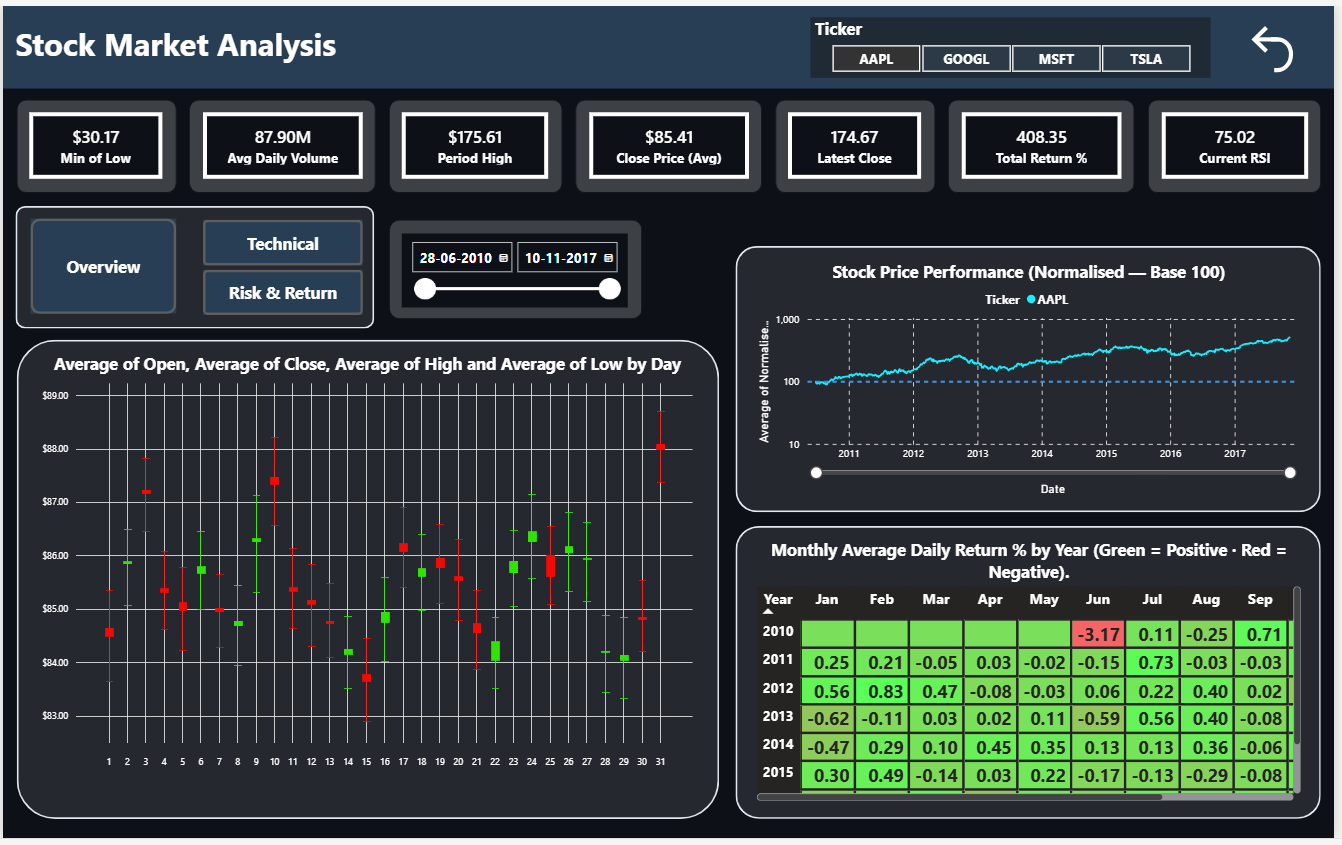

The dashboard page shown, as its layout file describes it:
{"tool":"powerbi","page":{"name":"Overview","canvas":[1600,1000],"ordinal":0},"visuals":[{"type":"shape","box":[15.5,240.4,431.1,147.3],"z":0,"group":"g2"},{"type":"shape","box":[16,400,844.3,576],"z":0,"group":"g1"},{"type":"shape","box":[688,112,224,112],"z":1000,"group":"g2"},{"type":"PBI_CV_886A053E_9DFD_4EA0_A47D_CCAEB89AF969","fields":{"Category":["dim_date.Date.Variation.Date Hierarchy.Year","dim_date.Date.Variation.Date Hierarchy.Quarter","dim_date.Date.Variation.Date Hierarchy.Month","dim_date.Date.Variation.Date Hierarchy.Day"],"open":["Avg(Stocks_daily.Open)"],"close":["Avg(Stocks_daily.Close)"],"high":["Avg(Stocks_daily.High)"],"low":["Avg(Stocks_daily.Low)"]},"box":[36.1,416,804.1,528],"z":1000,"group":"g1"},{"type":"shape","box":[464,112,208,112],"z":2000,"group":"g2"},{"type":"shape","box":[880.4,624,703.6,352],"z":2000,"group":"g1"},{"type":"shape","box":[224,112,224,112],"z":3000,"group":"g2"},{"type":"shape","box":[880.4,288,703.6,320],"z":3000,"group":"g1"},{"type":"shape","box":[16,112,192,112],"z":4000,"group":"g2"},{"type":"lineChart","title":"Stock Price Performance (Normalised — Base 100)","fields":{"Y":["Avg(Stocks_daily.Normalised_Price)"],"Category":["dim_date.Date.Variation.Date Hierarchy.Year"],"Series":["Stocks_daily.Ticker"]},"box":[900.5,304,663.4,288],"z":4000,"group":"g1"},{"type":"textbox","title":"Stock Market Analysis","box":[0,0,1600.5,99.3],"z":5000,"group":"g2"},{"type":"pivotTable","title":"Monthly Average Daily Return % by Year (Green = Positive · Red = Negative).","fields":{"Rows":["dim_date.Year"],"Values":["Avg(Stocks_daily.Daily_Return_Pct)"],"Columns":["dim_date.Month_Short"]},"box":[900.5,640,663.4,320],"z":5000,"group":"g1"},{"type":"shape","box":[463.7,257.4,304,119.4],"z":6000,"group":"g2"},{"type":"slicer","title":"Ticker","fields":{"Values":["Stocks_daily.Ticker"]},"box":[971.1,13,480.9,72.7],"z":7000,"group":"g2"},{"type":"shape","box":[1376,112,208,112],"z":8000,"group":"g2"},{"type":"shape","box":[1136,112,224,112],"z":9000,"group":"g2"},{"type":"cardVisual","fields":{"Data":["Avg(Stocks_daily.Close)"]},"box":[704,128,192,80],"z":10000,"group":"g2"},{"type":"shape","box":[928,112,192,112],"z":11000,"group":"g2"},{"type":"cardVisual","fields":{"Data":["Max(Stocks_daily.High)"]},"box":[480,128,176,80],"z":12000,"group":"g2"},{"type":"cardVisual","fields":{"Data":["Min(Stocks_daily.Low)"]},"box":[32,128,160,80],"z":13000,"group":"g2"},{"type":"cardVisual","fields":{"Data":["Avg(Stocks_daily.Volume)"]},"box":[240,128,192,80],"z":14000,"group":"g2"},{"type":"cardVisual","fields":{"Data":["Measures (2).Latest Close"]},"box":[944,128,160,80],"z":15000,"group":"g2"},{"type":"group","id":"g1","title":"Group 1","box":[16,288,1568,688],"z":15000},{"type":"cardVisual","fields":{"Data":["Measures (2).Total Return %"]},"box":[1152,128,192,80],"z":16000,"group":"g2"},{"type":"cardVisual","fields":{"Data":["Measures (2).Current RSI"]},"box":[1392,128,176,80],"z":17000,"group":"g2"},{"type":"slicer","fields":{"Values":["dim_date.Date"]},"box":[479.2,273,271.4,88.4],"z":18000,"group":"g2"},{"type":"actionButton","title":"Overview","box":[32.6,255.9,175.2,114.8],"z":19000,"group":"g2"},{"type":"actionButton","title":"Overview","box":[240.4,316.4,192.3,54.3],"z":20000,"group":"g2"},{"type":"actionButton","title":"Overview","box":[240.4,257.4,192,55],"z":21000,"group":"g2"},{"type":"actionButton","box":[1480,14.9,93.2,72.7],"z":22000,"group":"g2"},{"type":"group","id":"g2","title":"Group 2","box":[0,0,1600.5,387.7],"z":22001}]}

Visuals, with their boxes in screenshot pixels (x1, y1, x2, y2), scaled from the page's 1600x1000 canvas onto the 1342x845 screenshot:
shape: (left=13, top=203, right=375, bottom=328)
shape: (left=13, top=338, right=722, bottom=825)
shape: (left=577, top=95, right=765, bottom=189)
PBI_CV_886A053E_9DFD_4EA0_A47D_CCAEB89AF969 - dim_date.Date.Variation.Date Hierarchy.Year x dim_date.Date.Variation.Date Hierarchy.Quarter: (left=30, top=352, right=705, bottom=798)
shape: (left=389, top=95, right=564, bottom=189)
shape: (left=738, top=527, right=1329, bottom=825)
shape: (left=188, top=95, right=376, bottom=189)
shape: (left=738, top=243, right=1329, bottom=514)
shape: (left=13, top=95, right=174, bottom=189)
"Stock Price Performance (Normalised — Base 100)" lineChart: (left=755, top=257, right=1312, bottom=500)
"Stock Market Analysis" textbox: (left=0, top=0, right=1341, bottom=84)
"Monthly Average Daily Return % by Year (Green = Positive · Red = Negative)." pivotTable: (left=755, top=541, right=1312, bottom=811)
shape: (left=389, top=218, right=644, bottom=318)
"Ticker" slicer: (left=815, top=11, right=1218, bottom=72)
shape: (left=1154, top=95, right=1329, bottom=189)
shape: (left=953, top=95, right=1141, bottom=189)
cardVisual - Avg(Stocks_daily.Close): (left=590, top=108, right=752, bottom=176)
shape: (left=778, top=95, right=939, bottom=189)
cardVisual - Max(Stocks_daily.High): (left=403, top=108, right=550, bottom=176)
cardVisual - Min(Stocks_daily.Low): (left=27, top=108, right=161, bottom=176)
cardVisual - Avg(Stocks_daily.Volume): (left=201, top=108, right=362, bottom=176)
cardVisual - Measures (2).Latest Close: (left=792, top=108, right=926, bottom=176)
"Group 1" group: (left=13, top=243, right=1329, bottom=825)
cardVisual - Measures (2).Total Return %: (left=966, top=108, right=1127, bottom=176)
cardVisual - Measures (2).Current RSI: (left=1168, top=108, right=1315, bottom=176)
slicer - dim_date.Date: (left=402, top=231, right=630, bottom=305)
"Overview" actionButton: (left=27, top=216, right=174, bottom=313)
"Overview" actionButton: (left=202, top=267, right=363, bottom=313)
"Overview" actionButton: (left=202, top=218, right=363, bottom=264)
actionButton: (left=1241, top=13, right=1320, bottom=74)
"Group 2" group: (left=0, top=0, right=1341, bottom=328)
